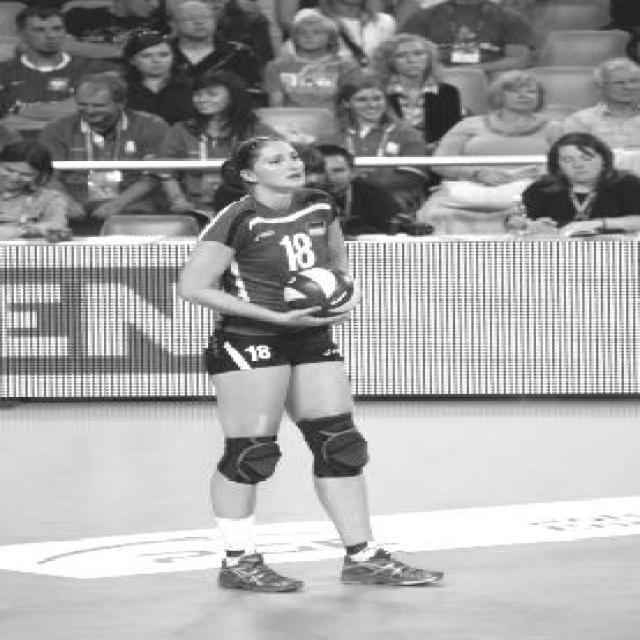volleyball: (284, 267, 358, 317)
